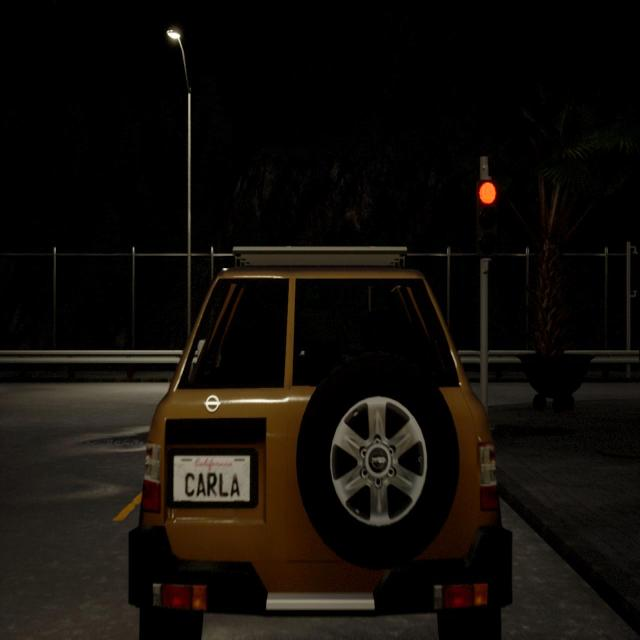Vehicle: (129, 247, 511, 638)
traffic_light: (471, 176, 502, 254)
